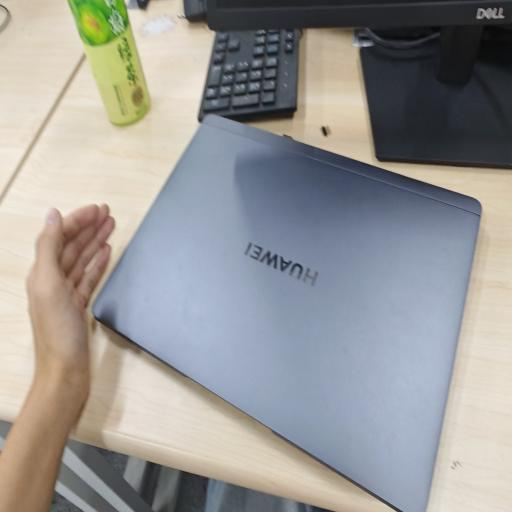laptop: (93, 116, 481, 512)
